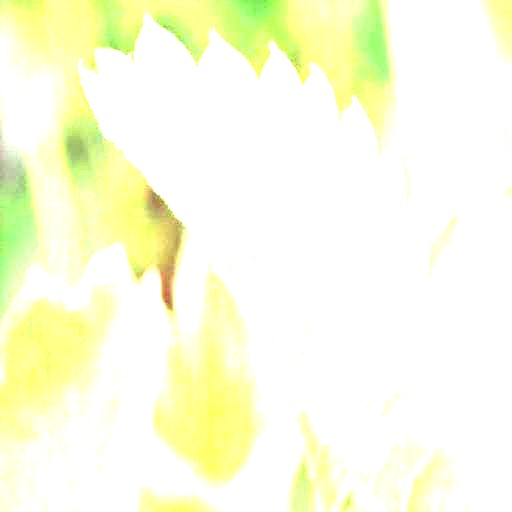Powdery Mildew Leaf: (78, 12, 434, 511)
